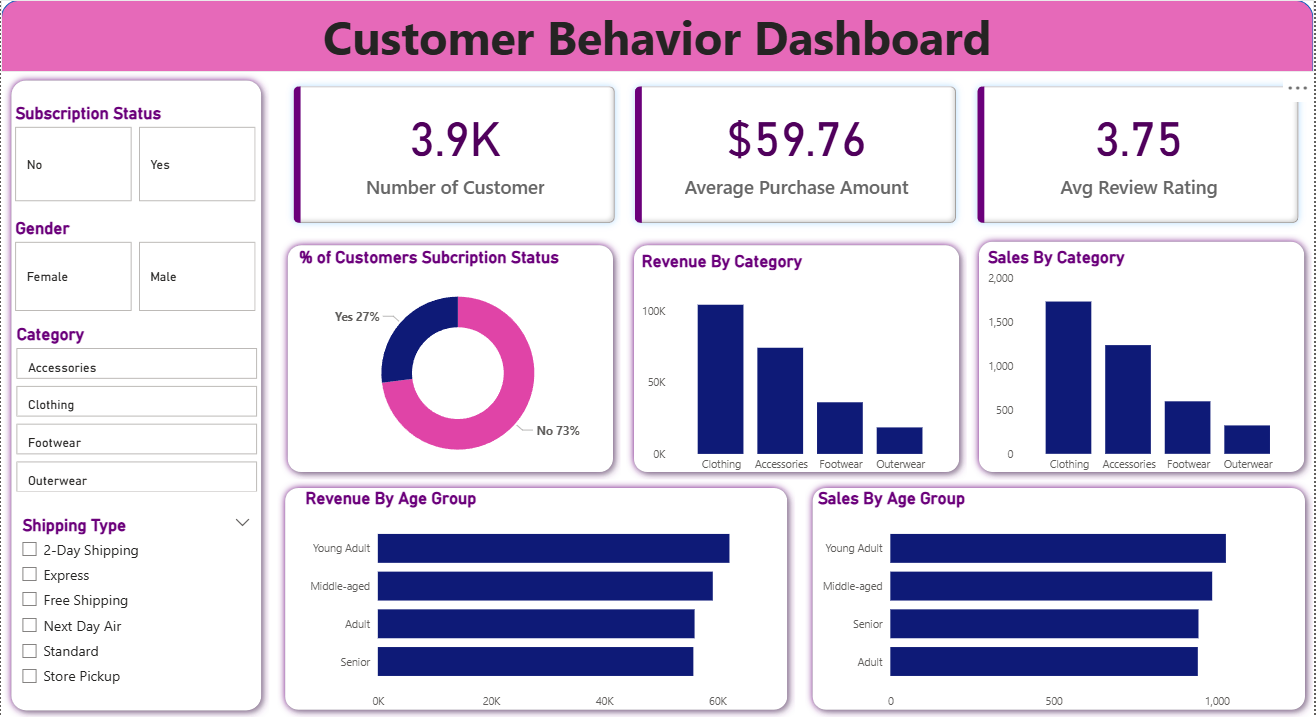

The page's visual inventory and layout, read from the dashboard file:
{"tool":"powerbi","page":{"name":"Page 1","canvas":[1500,820],"ordinal":0},"visuals":[{"type":"shape","box":[316.1,548.7,591.9,271.6],"z":0},{"type":"cardVisual","fields":{"Data":["public customer.No_Customer"]},"box":[318.9,82.2,399.7,188],"z":1000},{"type":"cardVisual","fields":{"Data":["public customer.Avg Review Rating"]},"box":[1100.2,83.6,399.7,188],"z":2000},{"type":"cardVisual","fields":{"Data":["public customer.Average Purchase Amount"]},"box":[708.2,83.6,399.7,188],"z":3000},{"type":"shape","box":[0,0,1499.9,82.2],"z":4000},{"type":"textbox","box":[0,0,1499.9,82.2],"z":5000},{"type":"shape","box":[2.8,82.2,303.6,738.1],"z":6000},{"type":"shape","box":[919.2,548.7,580.7,271.6],"z":7000},{"type":"shape","box":[318.9,271.6,389.9,277.1],"z":8000},{"type":"shape","box":[714.4,271.6,389.9,277.1],"z":9000},{"type":"shape","box":[1108.6,267.4,389.9,281.3],"z":10000},{"type":"donutChart","title":"% of Customers Subcription Status","fields":{"Category":["public customer.subscription_status"],"Y":["CountNonNull(public customer.customer_id)"]},"box":[335.6,282.7,373.2,266],"z":11000},{"type":"clusteredColumnChart","title":"Revenue By Category","fields":{"Y":["Sum(public customer.purchase_amount)"],"Category":["public customer.category"]},"box":[727,286.9,360.7,261.8],"z":12000},{"type":"clusteredColumnChart","title":"Sales By Category","fields":{"Category":["public customer.category"],"Y":["CountNonNull(public customer.customer_id)"]},"box":[1122.5,282.7,362.1,266],"z":13000},{"type":"advancedSlicerVisual","fields":{"Values":["public customer.subscription_status"]},"box":[11.1,118.4,285.5,117],"z":14000},{"type":"advancedSlicerVisual","fields":{"Values":["public customer.gender"]},"box":[11.1,250.7,285.5,111.4],"z":15000},{"type":"advancedSlicerVisual","fields":{"Values":["public customer.category"]},"box":[12.5,371.8,285.5,197.8],"z":16000},{"type":"slicer","fields":{"Values":["public customer.shipping_type"]},"box":[11.1,584.9,285.5,210.3],"z":17000},{"type":"clusteredBarChart","title":"Revenue By Age Group","fields":{"Y":["Sum(public customer.purchase_amount)"],"Category":["public customer.age_group"]},"box":[342.6,558.5,555.7,261.8],"z":18000},{"type":"clusteredBarChart","title":"Sales By Age Group","fields":{"Category":["public customer.age_group"],"Y":["CountNonNull(public customer.customer_id)"]},"box":[928.9,558.5,555.7,261.8],"z":19000}]}

Visuals, with their boxes in screenshot pixels (x1, y1, x2, y2), scaled from the page's 1500x820 canvas onto the 1316x717 screenshot:
shape: (left=277, top=480, right=797, bottom=716)
cardVisual - public customer.No_Customer: (left=280, top=72, right=630, bottom=236)
cardVisual - public customer.Avg Review Rating: (left=965, top=73, right=1315, bottom=237)
cardVisual - public customer.Average Purchase Amount: (left=621, top=73, right=972, bottom=237)
shape: (left=0, top=0, right=1315, bottom=72)
textbox: (left=0, top=0, right=1315, bottom=72)
shape: (left=2, top=72, right=269, bottom=716)
shape: (left=806, top=480, right=1315, bottom=716)
shape: (left=280, top=237, right=622, bottom=480)
shape: (left=627, top=237, right=969, bottom=480)
shape: (left=973, top=234, right=1315, bottom=480)
"% of Customers Subcription Status" donutChart: (left=294, top=247, right=622, bottom=480)
"Revenue By Category" clusteredColumnChart: (left=638, top=251, right=954, bottom=480)
"Sales By Category" clusteredColumnChart: (left=985, top=247, right=1302, bottom=480)
advancedSlicerVisual - public customer.subscription_status: (left=10, top=104, right=260, bottom=206)
advancedSlicerVisual - public customer.gender: (left=10, top=219, right=260, bottom=317)
advancedSlicerVisual - public customer.category: (left=11, top=325, right=261, bottom=498)
slicer - public customer.shipping_type: (left=10, top=511, right=260, bottom=695)
"Revenue By Age Group" clusteredBarChart: (left=301, top=488, right=788, bottom=716)
"Sales By Age Group" clusteredBarChart: (left=815, top=488, right=1302, bottom=716)
